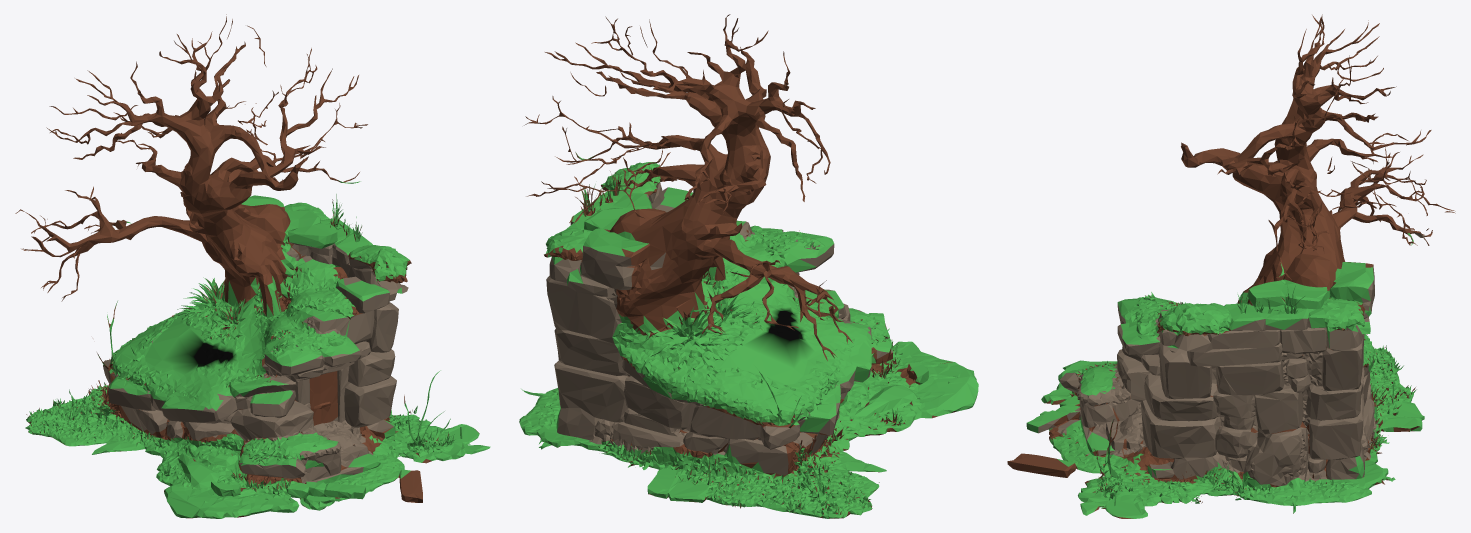
Rendered from Mid-Tree-1.fbx.
The picture shows the model from 3 angles, left to right: view 1: azimuth 30°, elevation 25°; view 2: azimuth 150°, elevation 25°; view 3: azimuth 270°, elevation 25°; orthographic projection. The views are drawn at different scales.
Parts seen in each view (by area): view 1: Mid Tree 1; view 2: Mid Tree 1; view 3: Mid Tree 1.
Part boxes in pixels (box(x1,y1,x2,y2)): Mid Tree 1: box(15, 14, 490, 518); Mid Tree 1: box(519, 14, 978, 518); Mid Tree 1: box(1007, 14, 1455, 518).
Size of the model in its own units: 9.19 by 9.98 by 10.07.
